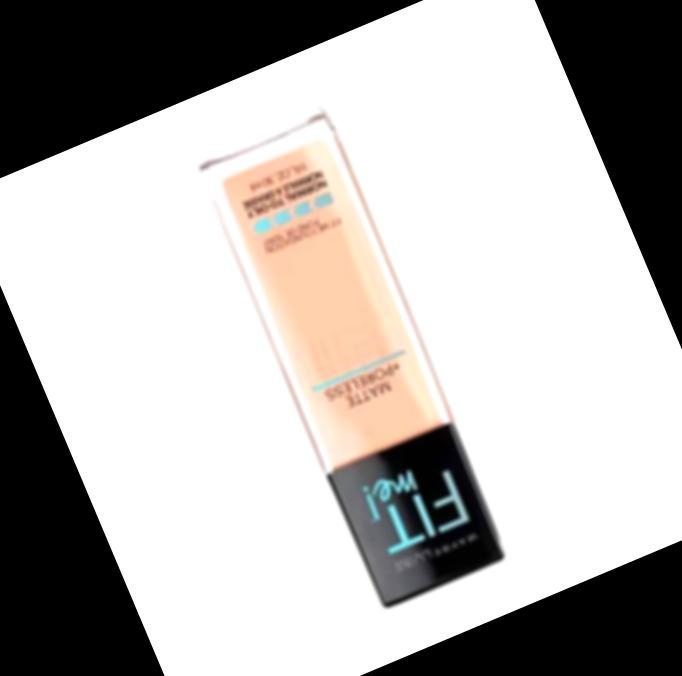cosmetic: (191, 105, 508, 611)
